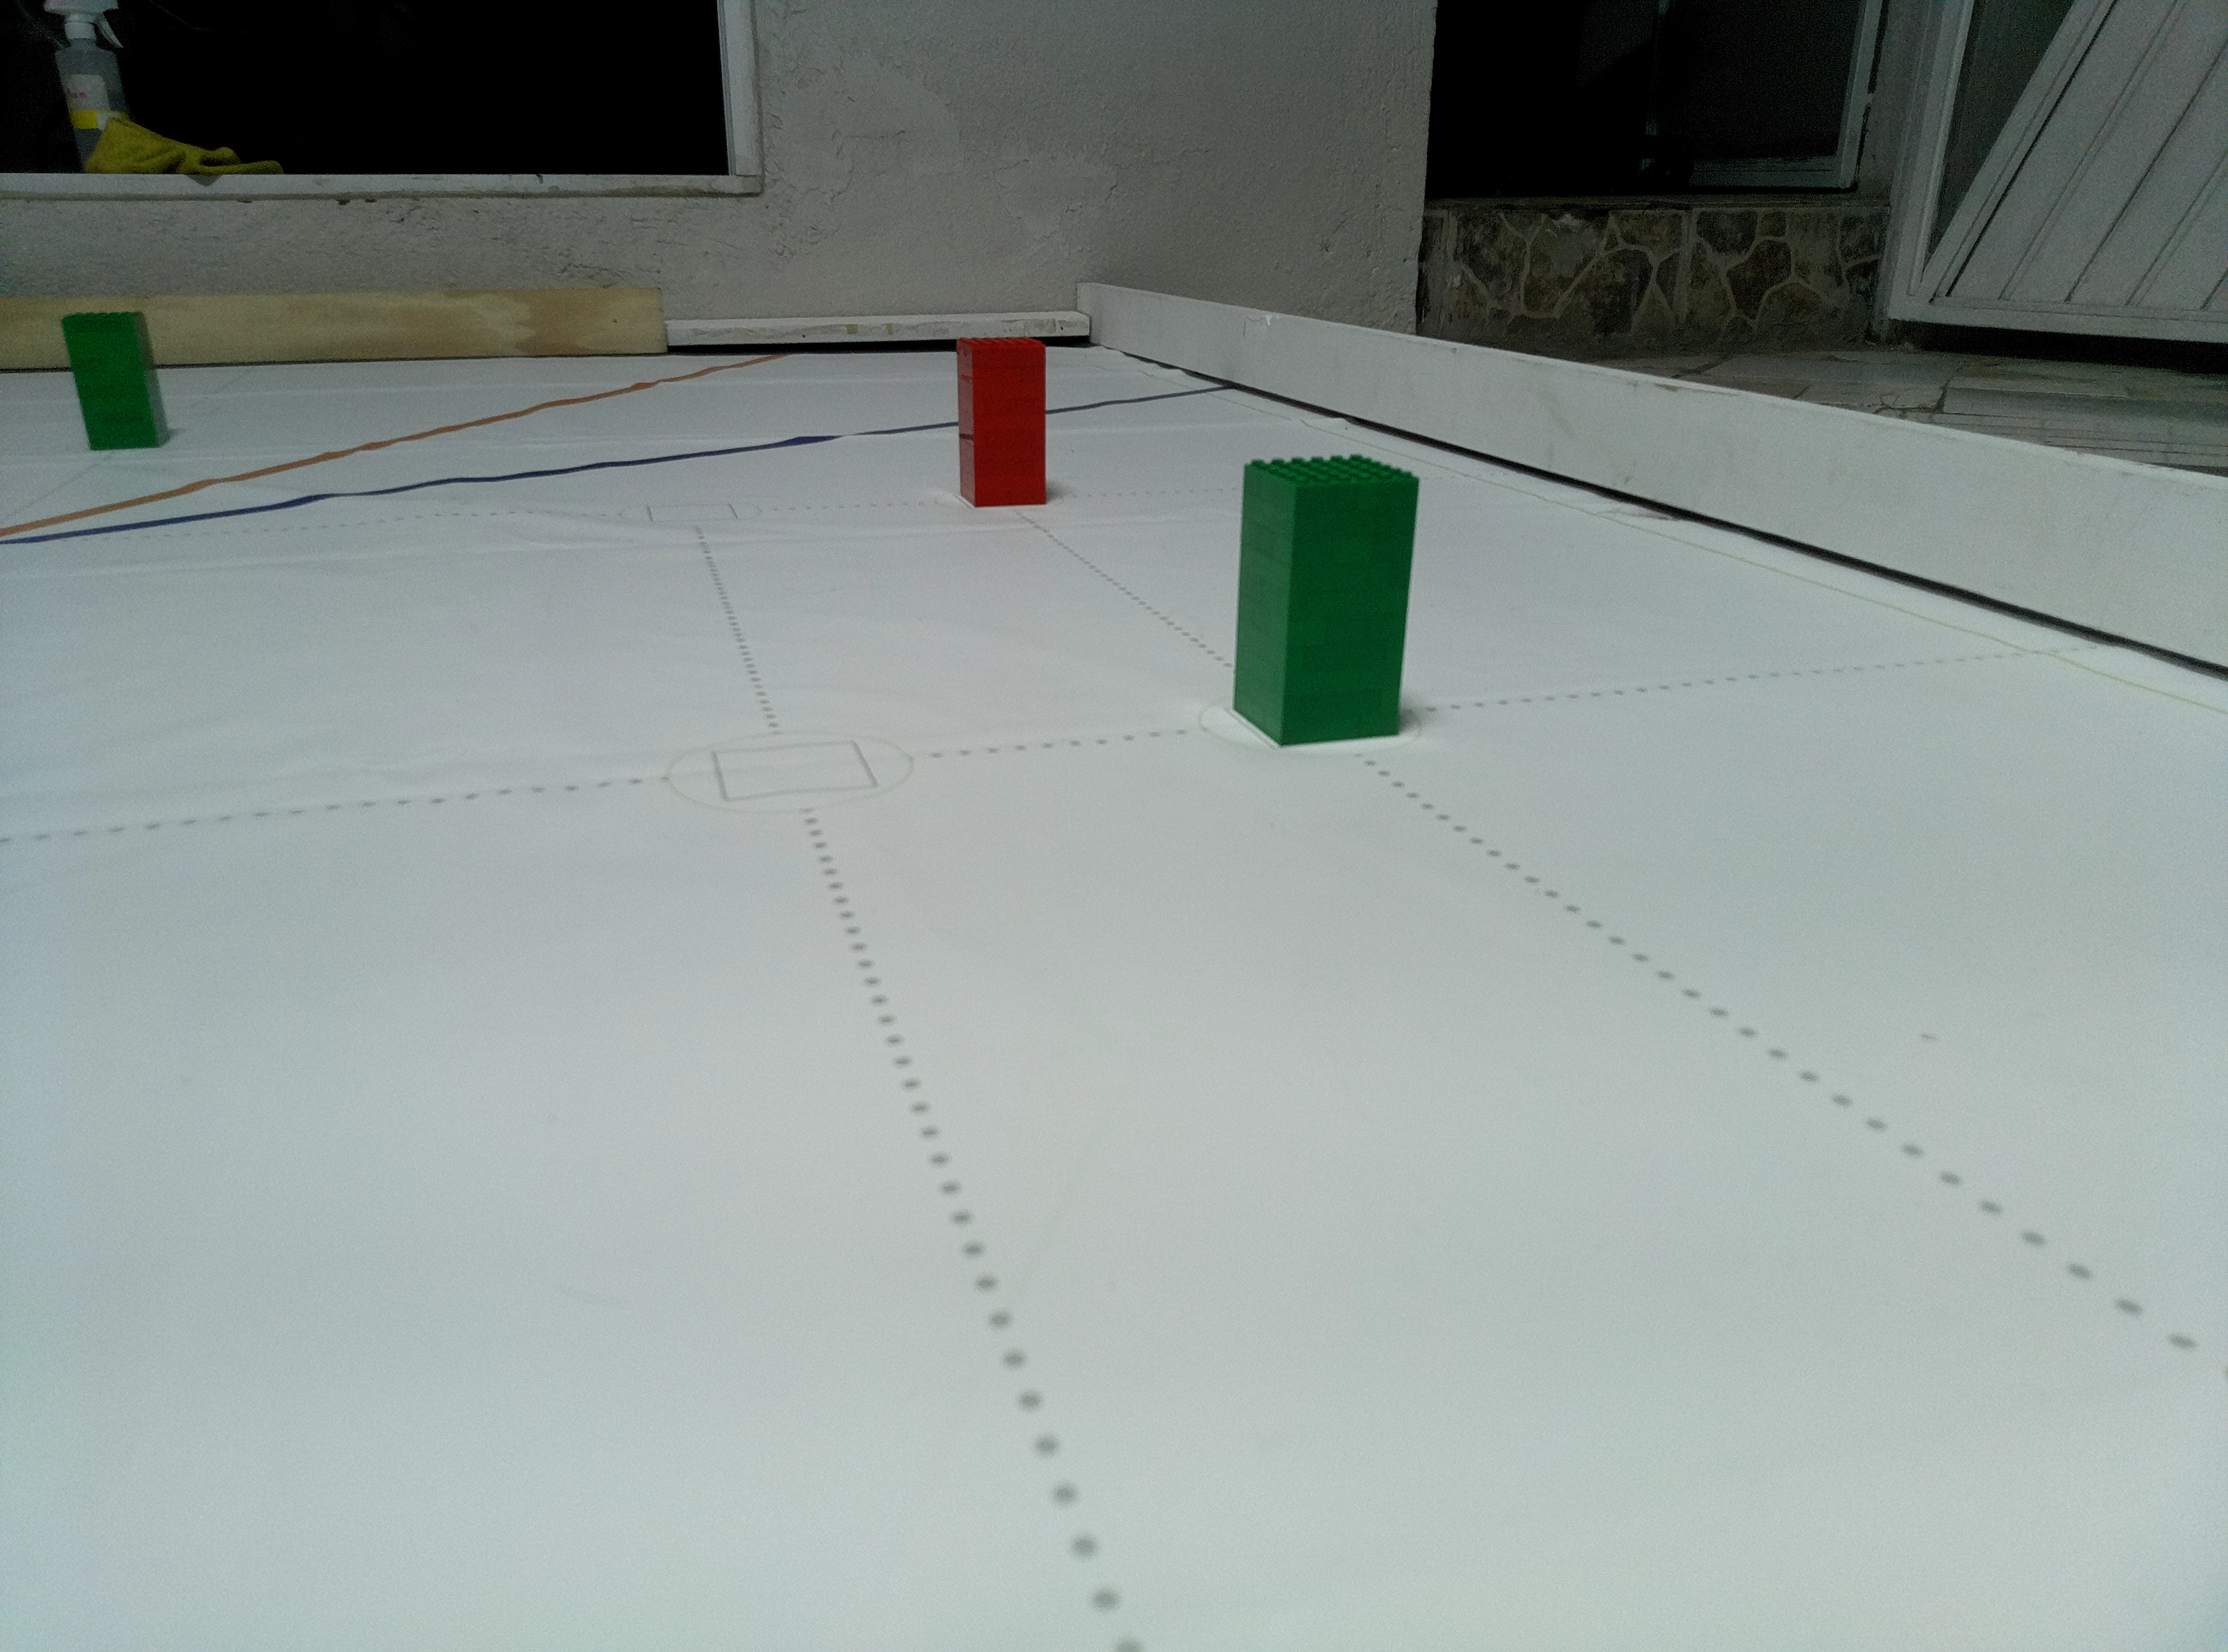greenbox: (1229, 448, 1423, 753), (57, 309, 174, 453)
redbox: (953, 335, 1052, 507)
